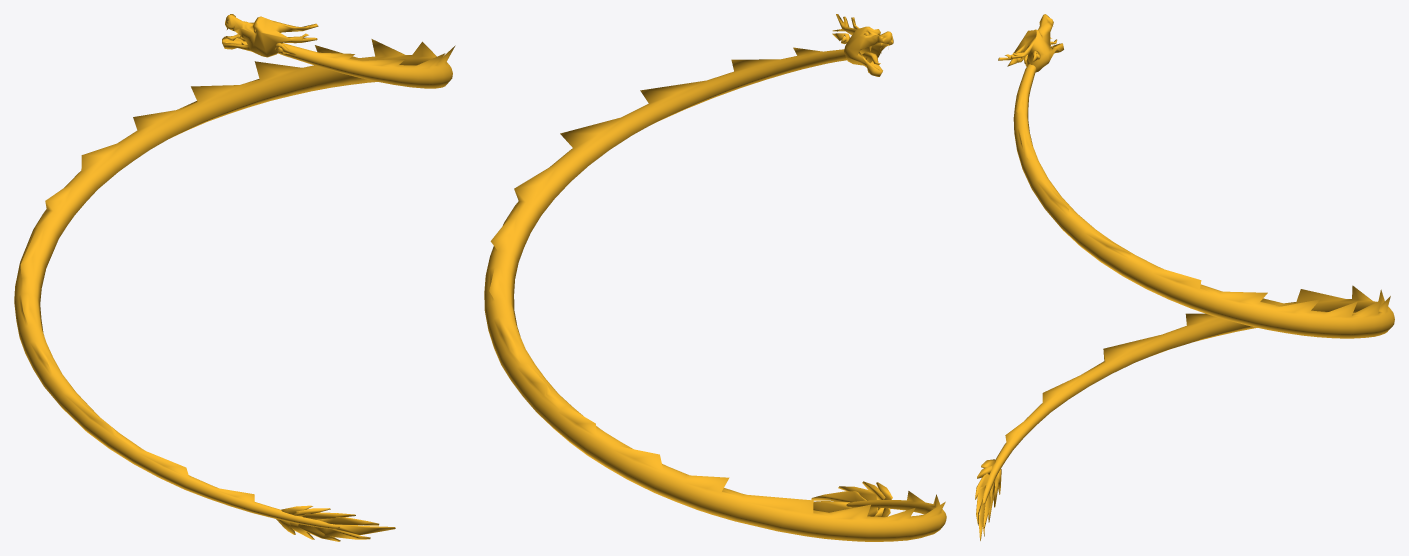
Rendered from fx_mod_long03.FBX.
3 views of the same model, side by side, from view 1: azimuth 30°, elevation 25°; view 2: azimuth 150°, elevation 25°; view 3: azimuth 270°, elevation 25° (orthographic). The views are drawn at different scales.
Parts seen in each view (by area): view 1: fx_mod_long03; view 2: fx_mod_long03; view 3: fx_mod_long03.
Part boxes in pixels (x1=…): fx_mod_long03: x1=14, y1=14, x2=455, y2=541; fx_mod_long03: x1=484, y1=14, x2=946, y2=541; fx_mod_long03: x1=975, y1=14, x2=1394, y2=540.
Bounding box in the file's own units: 2547 × 3311 × 2648.
